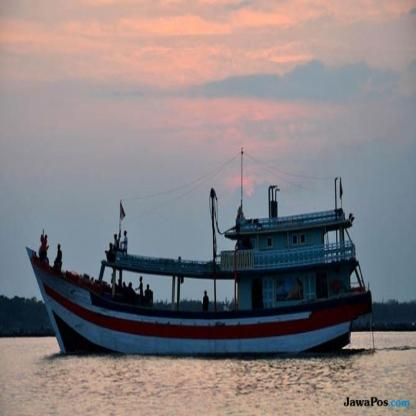fishing boat: (20, 221, 395, 359)
